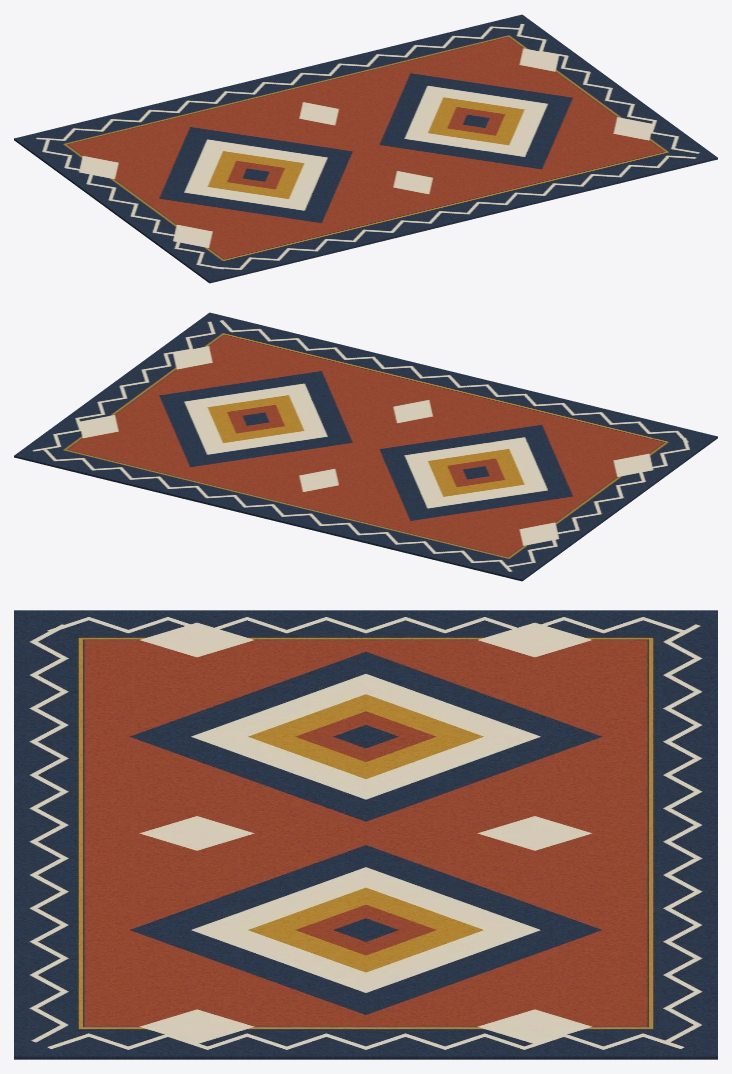
The model's file is alfombra_kilim_200x300.glb.
The picture shows the model from 3 angles, top to bottom: view 1: azimuth 30°, elevation 25°; view 2: azimuth 150°, elevation 25°; view 3: azimuth 270°, elevation 25°; orthographic projection. The views are drawn at different scales.
Parts seen in each view (by area): view 1: alfombra_kilim_200x300; view 2: alfombra_kilim_200x300; view 3: alfombra_kilim_200x300.
Part boxes in pixels (bbox=[...]): alfombra_kilim_200x300: bbox=[14, 14, 717, 283]; alfombra_kilim_200x300: bbox=[14, 312, 717, 581]; alfombra_kilim_200x300: bbox=[14, 610, 717, 1059].
Bounding box in the file's own units: 3 × 0.01 × 2.
Materials: 1 (1 with a texture image).
